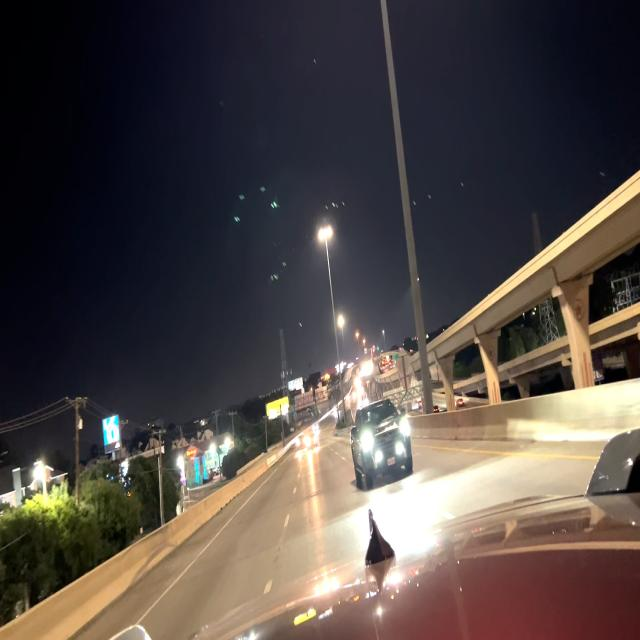back-of-sign: (293, 387, 329, 413), (393, 346, 415, 381)
